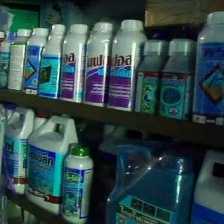insecticide: (101, 139, 196, 224), (23, 110, 83, 218), (102, 17, 147, 117), (190, 7, 223, 130), (153, 34, 197, 125), (82, 18, 117, 117), (0, 102, 36, 197), (55, 21, 91, 113), (133, 35, 171, 122), (57, 140, 94, 223), (37, 21, 66, 103), (18, 24, 49, 100), (5, 24, 31, 98), (0, 29, 19, 97)
